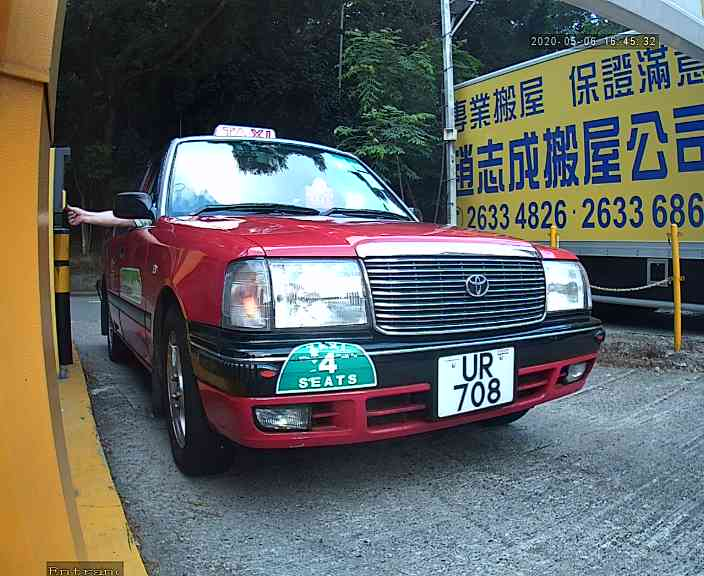taxi: (79, 118, 616, 484)
taxi_mark: (266, 333, 388, 407)
